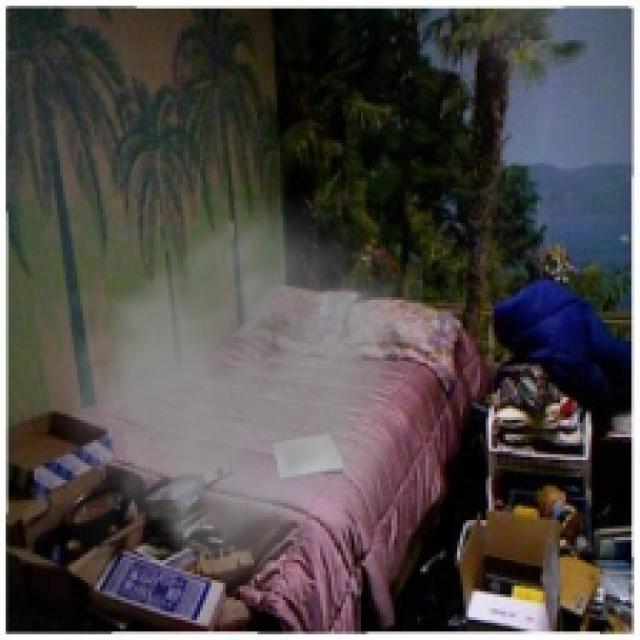smoke: (26, 183, 423, 606)
